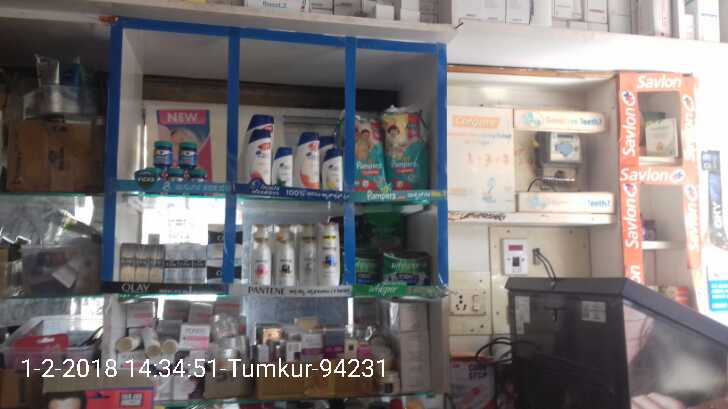beauty: (316, 214, 345, 289), (291, 129, 322, 191), (245, 129, 272, 187), (274, 237, 297, 289), (266, 142, 293, 186), (322, 145, 345, 188), (250, 234, 270, 283), (146, 239, 162, 283), (161, 242, 177, 285), (115, 241, 132, 281), (129, 242, 145, 283), (187, 245, 202, 286), (177, 243, 189, 282)
pharmacy: (382, 107, 431, 192), (352, 111, 384, 193), (383, 251, 431, 288), (151, 139, 172, 166), (177, 141, 196, 165)
